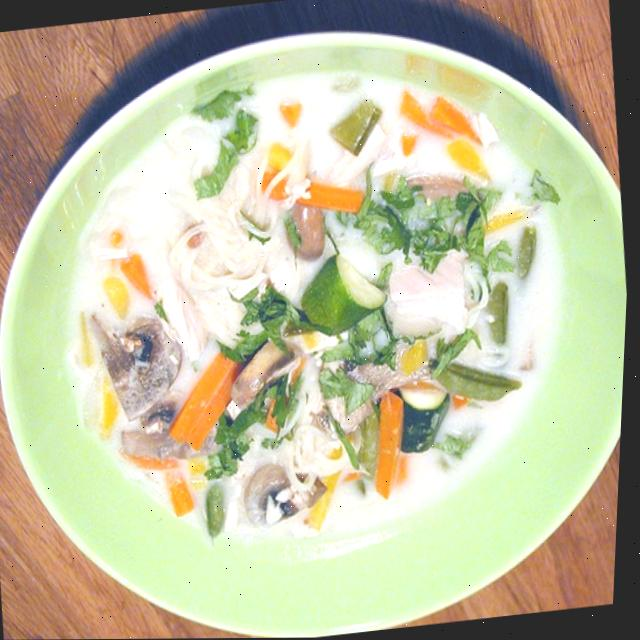汤锅炖物: (0, 17, 639, 640)
